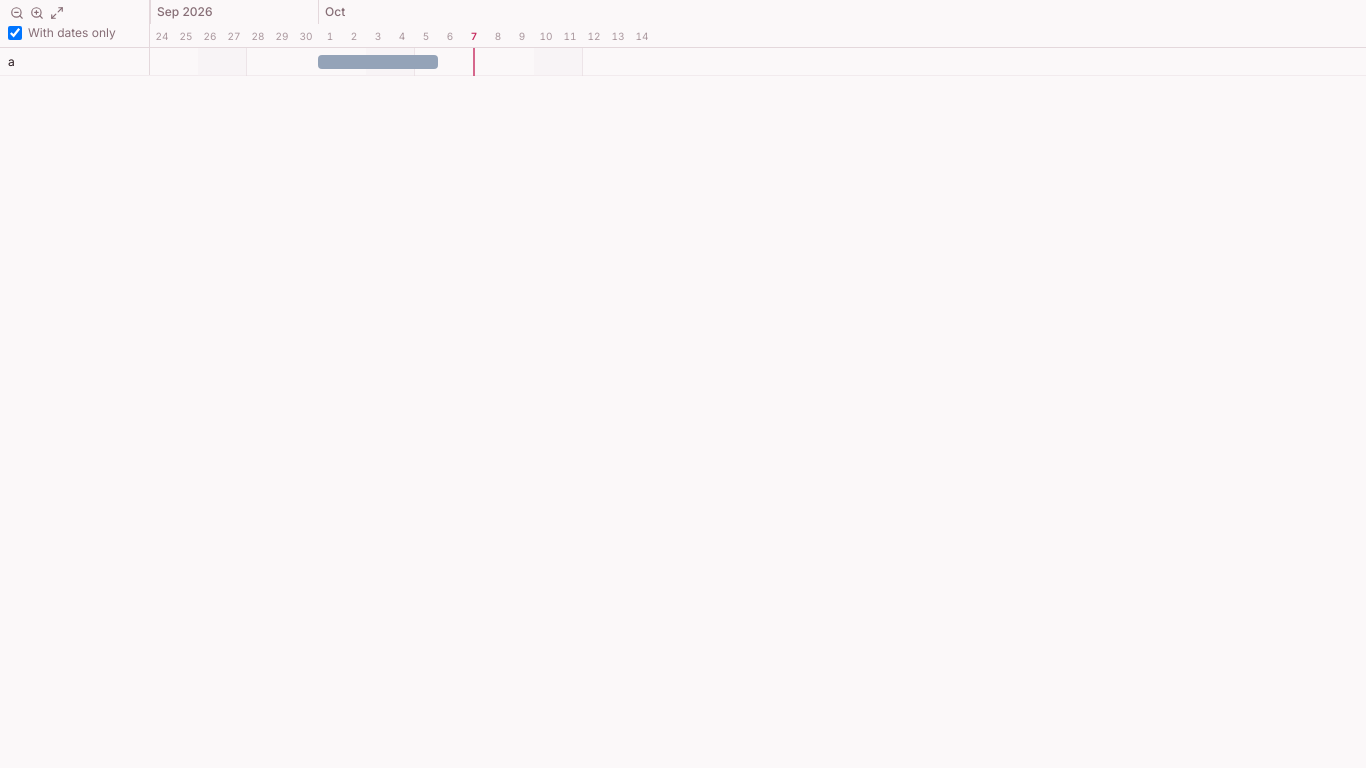
Scenario: on the timeline › still opens the dialog on a click that moved nothing
Step 1. Press the mouse on the button named "Started 2026-10-01, ended 2026-10-05. Change" → (378, 62), box [318,54,438,68]
Step 2. Click the button named "Started 2026-10-01, ended 2026-10-05. Change" → (378, 62), box [318,54,438,68]
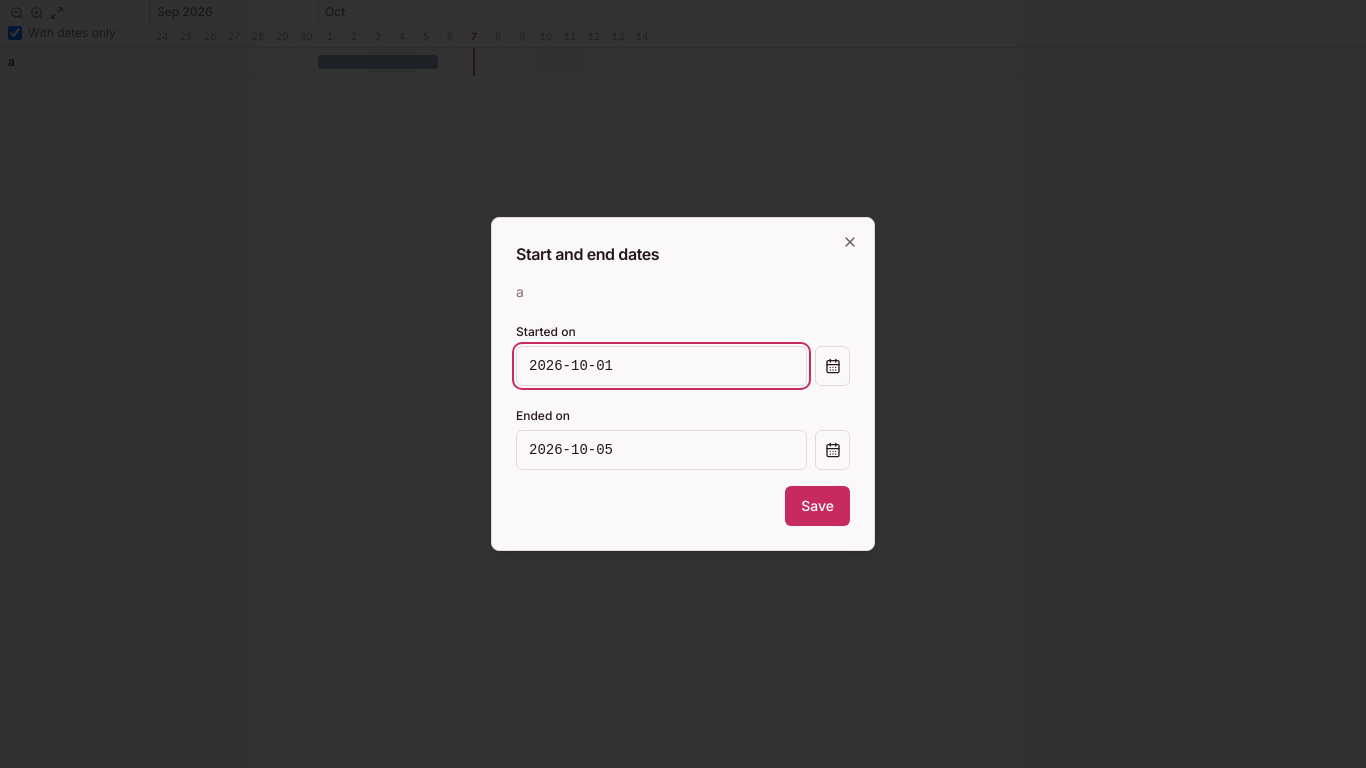
Check: the field labelled "Started on" is shown, box [516,346,807,386]
